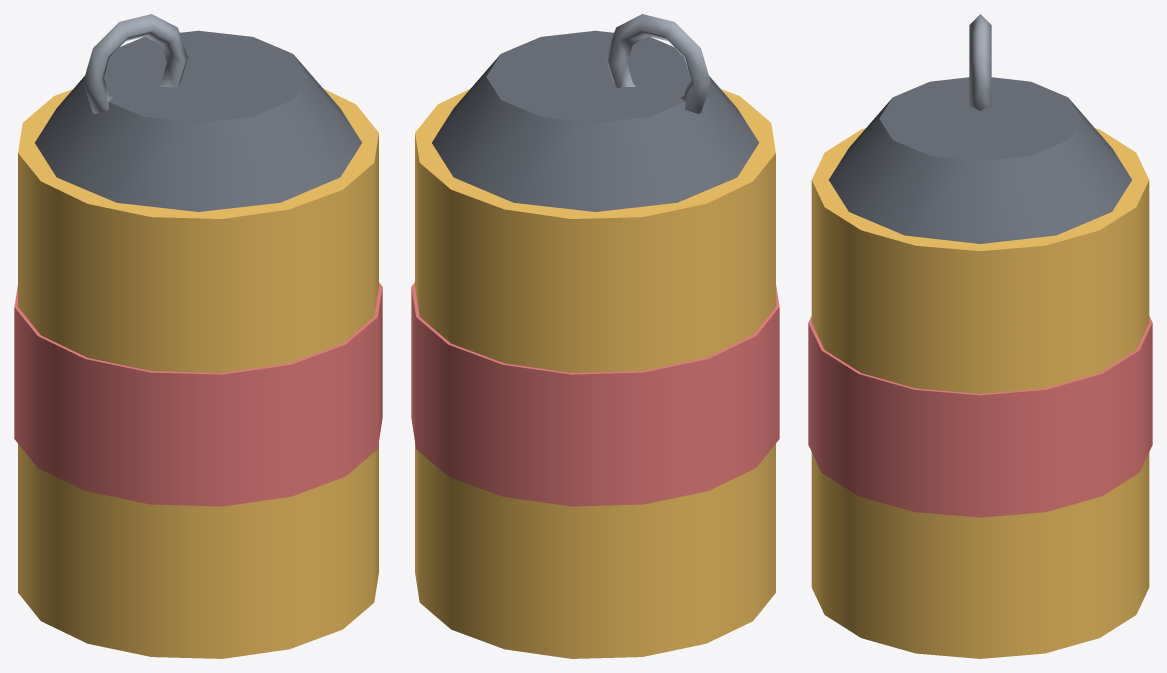
File: Napalm.fbx
3 renders of one model, left to right at view 1: azimuth 30°, elevation 25°; view 2: azimuth 150°, elevation 25°; view 3: azimuth 270°, elevation 25°, orthographic. The views are drawn at different scales.
Parts seen in each view (by area): view 1: Napalm; view 2: Napalm; view 3: Napalm.
Boxes of the visible parts, x1,y1,x2,y2 form: Napalm: (14, 14, 382, 658); Napalm: (411, 14, 779, 658); Napalm: (808, 14, 1152, 658).
Size of the model in its own units: 0.306 by 0.5276 by 0.306.
